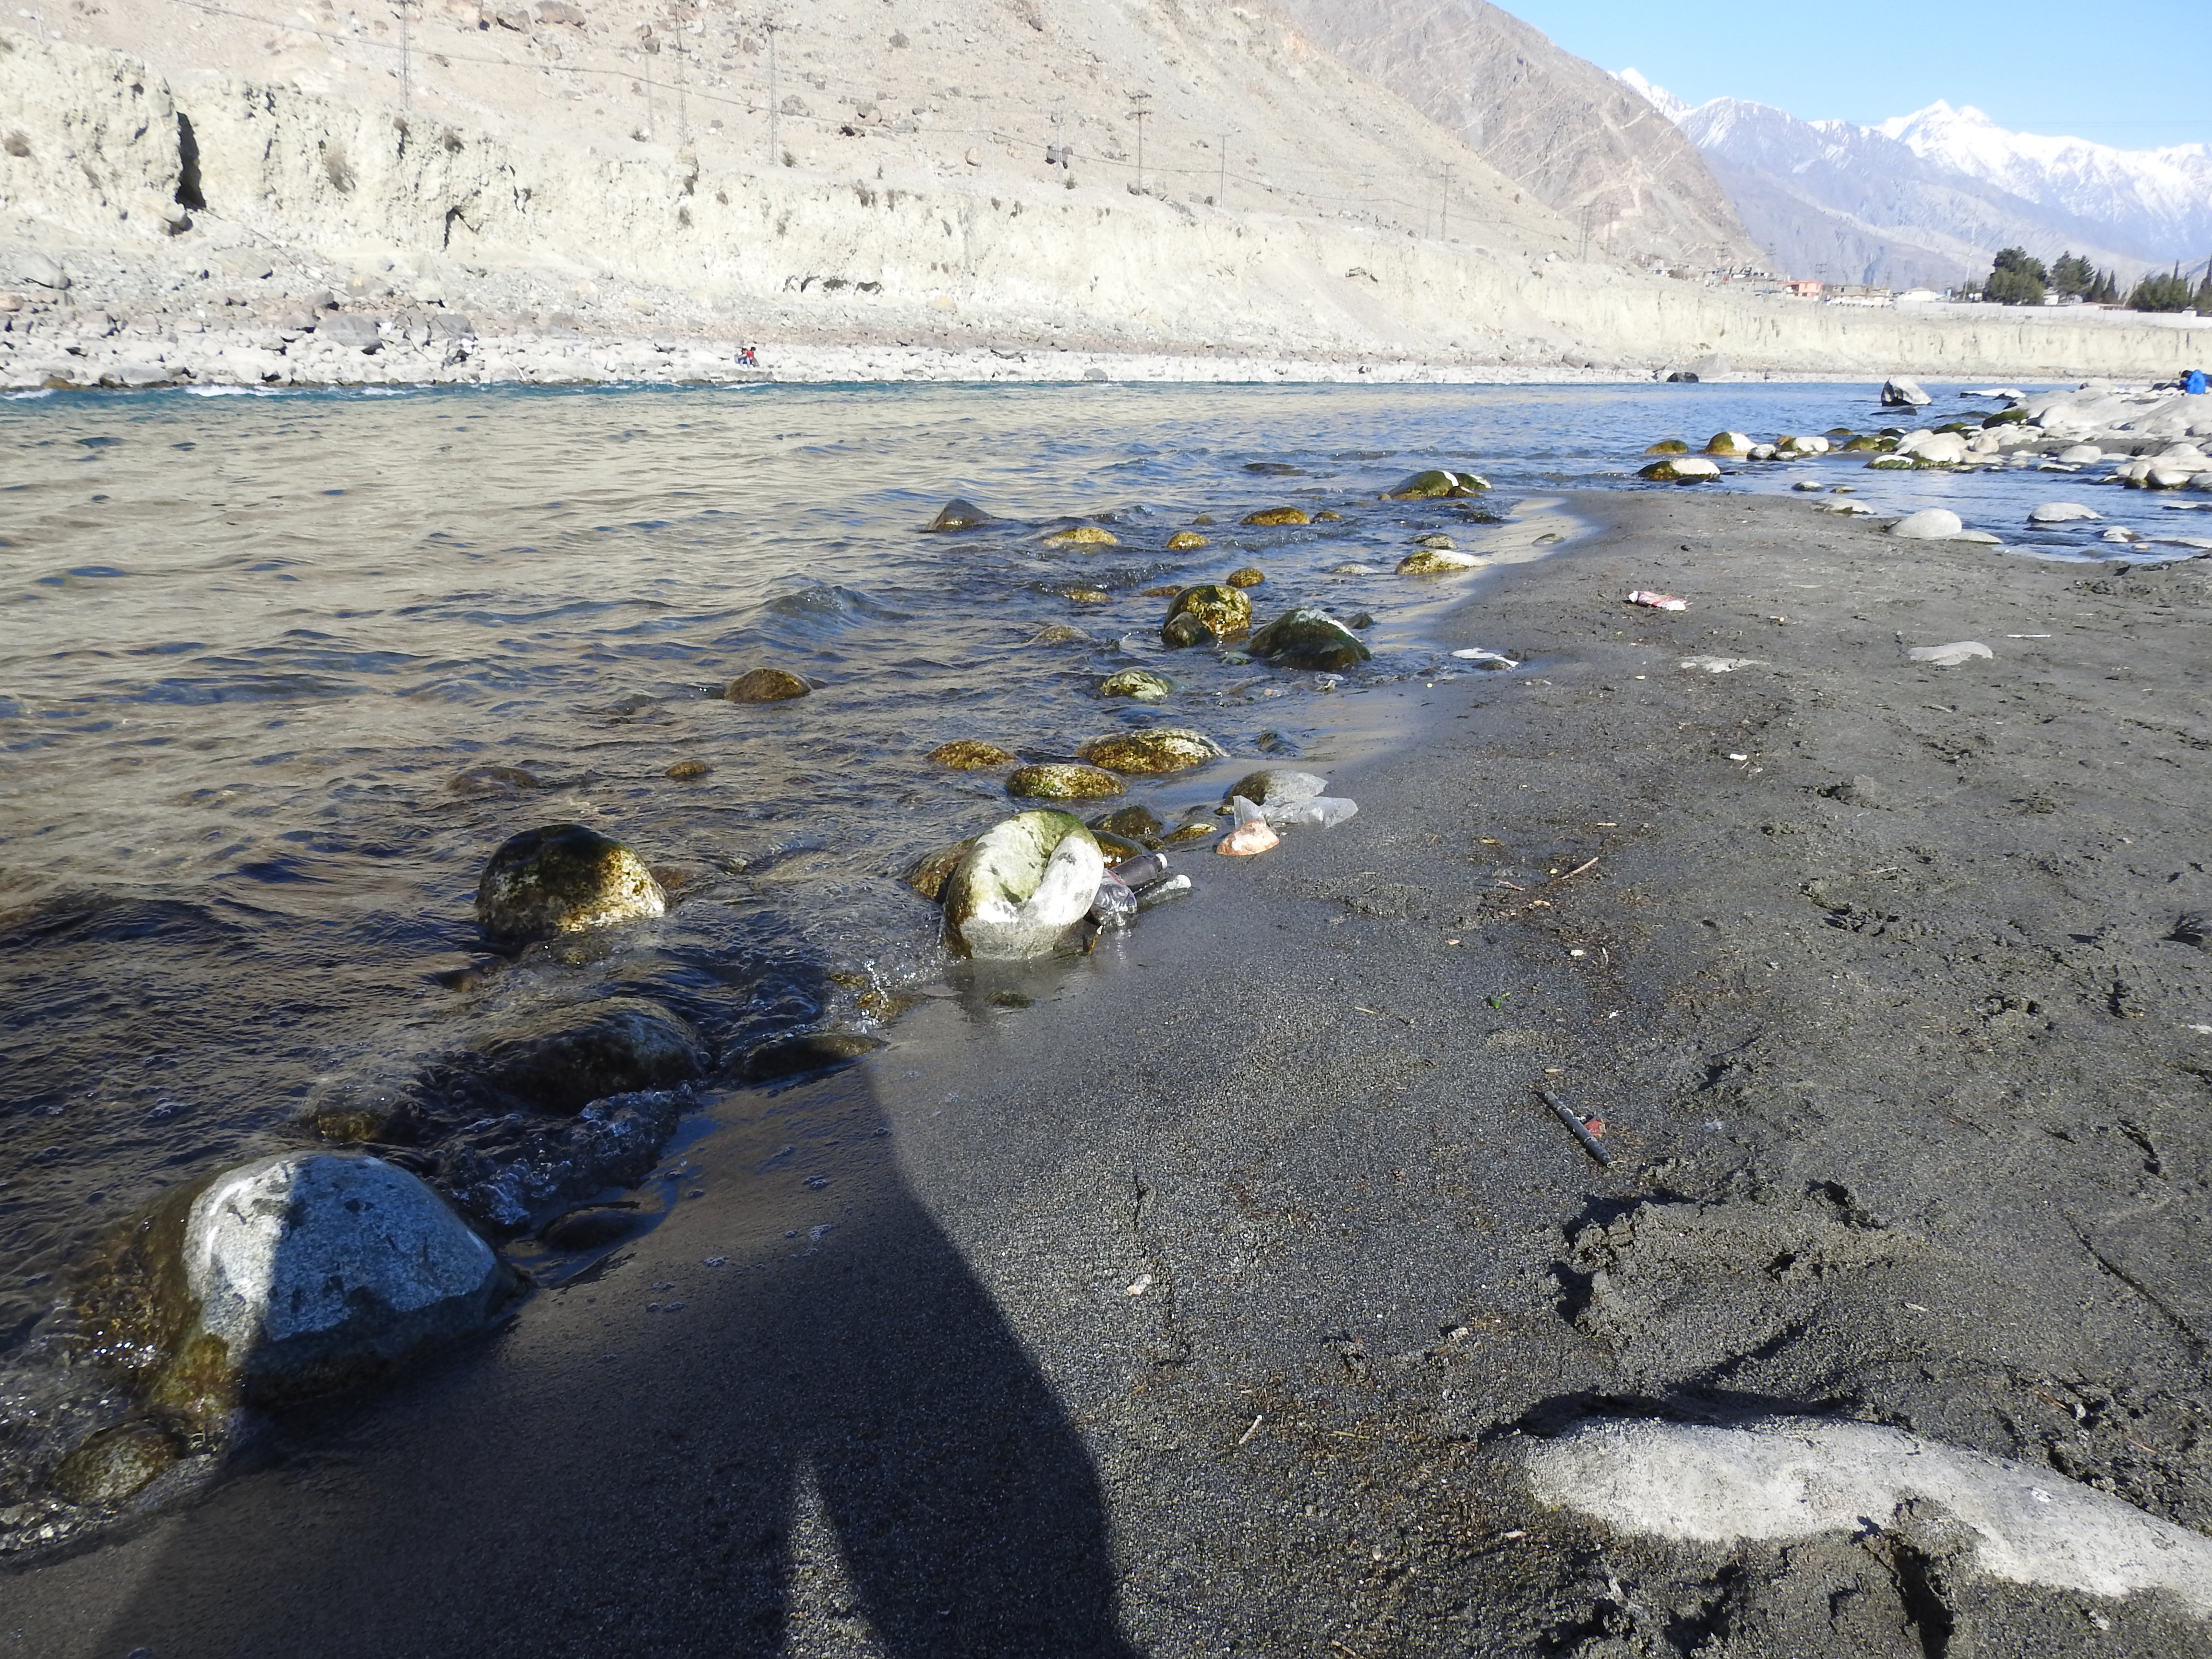Plastic Bottle: (1089, 868, 1137, 927), (1109, 852, 1169, 890)
